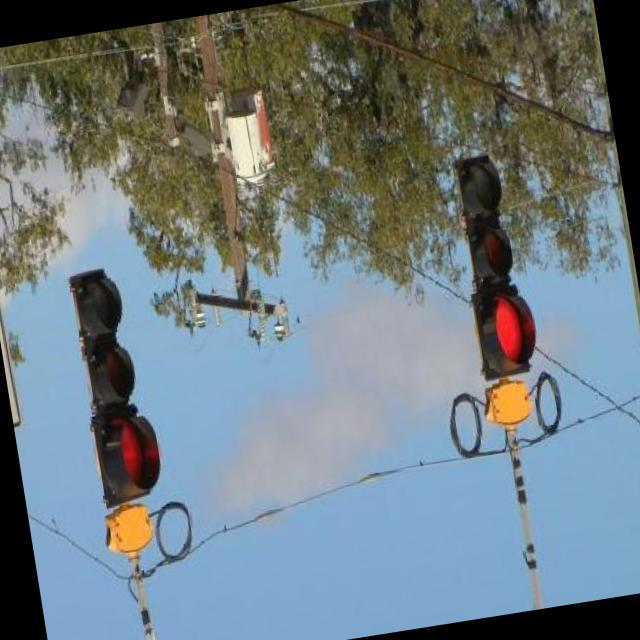red-lights: (88, 396, 166, 508), (468, 276, 544, 379)
